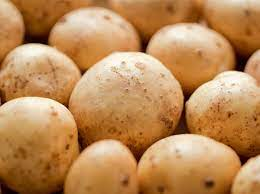potato: (65, 51, 178, 148), (1, 93, 70, 184), (136, 137, 235, 194), (190, 67, 260, 144), (43, 6, 135, 62), (151, 15, 240, 71), (2, 43, 67, 102), (65, 138, 128, 194)
